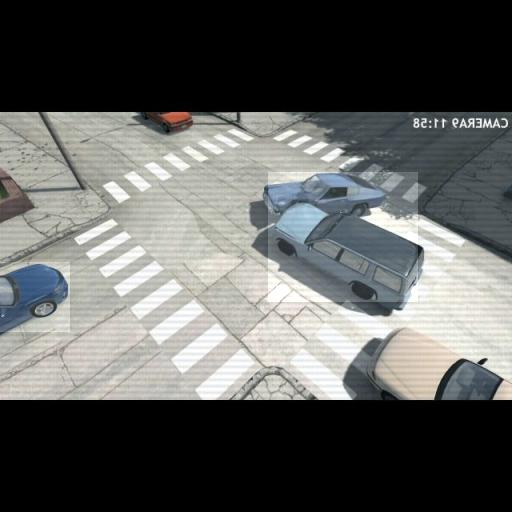小汽车: (375, 326, 510, 401), (0, 262, 70, 332), (140, 110, 192, 140)
小汽车撞小汽车: (268, 172, 418, 302)
